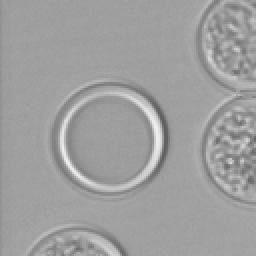picoshell: (50, 78, 168, 198), (200, 92, 254, 212), (194, 0, 256, 92), (26, 222, 124, 254)
